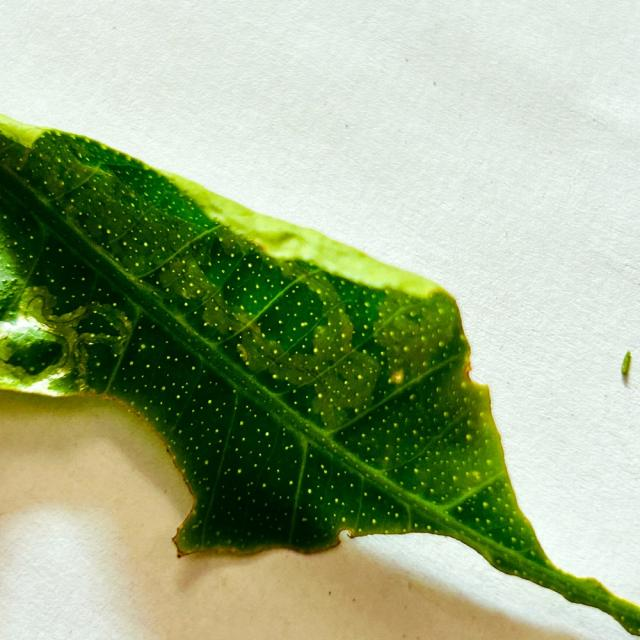Deficiency Leaf: (192, 533, 514, 626), (0, 390, 193, 539)
Lemon: (0, 118, 639, 634)
